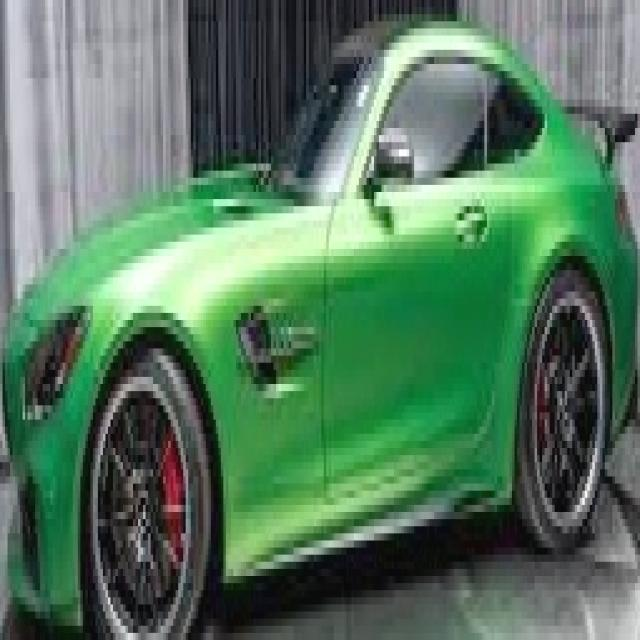green: (2, 36, 630, 634)
